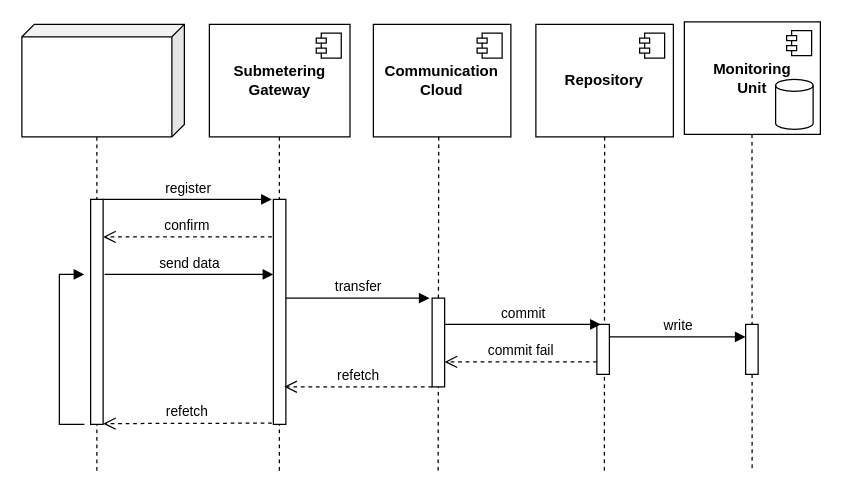
Some shapes in this 843 by 498 pixel diagram are drawn without their labels. Each missing label, with the box of its shape:
Smart Meter: (21, 23, 184, 137)
TS DB: (774, 78, 813, 129)
